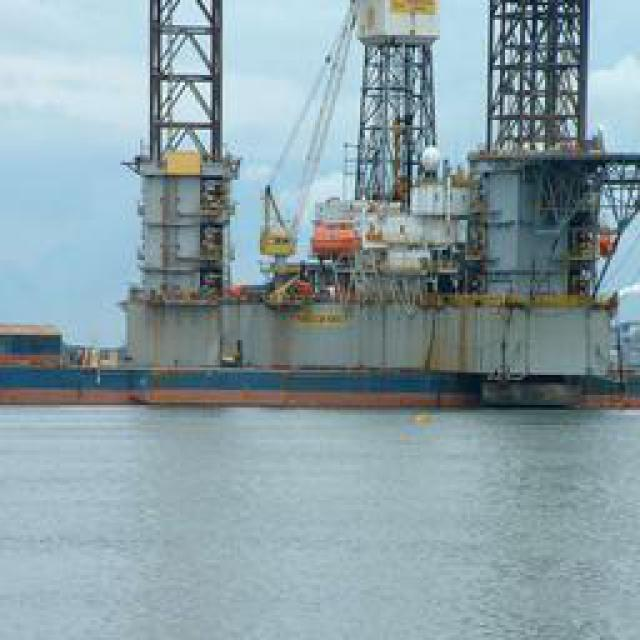Ship: (32, 6, 630, 406)
